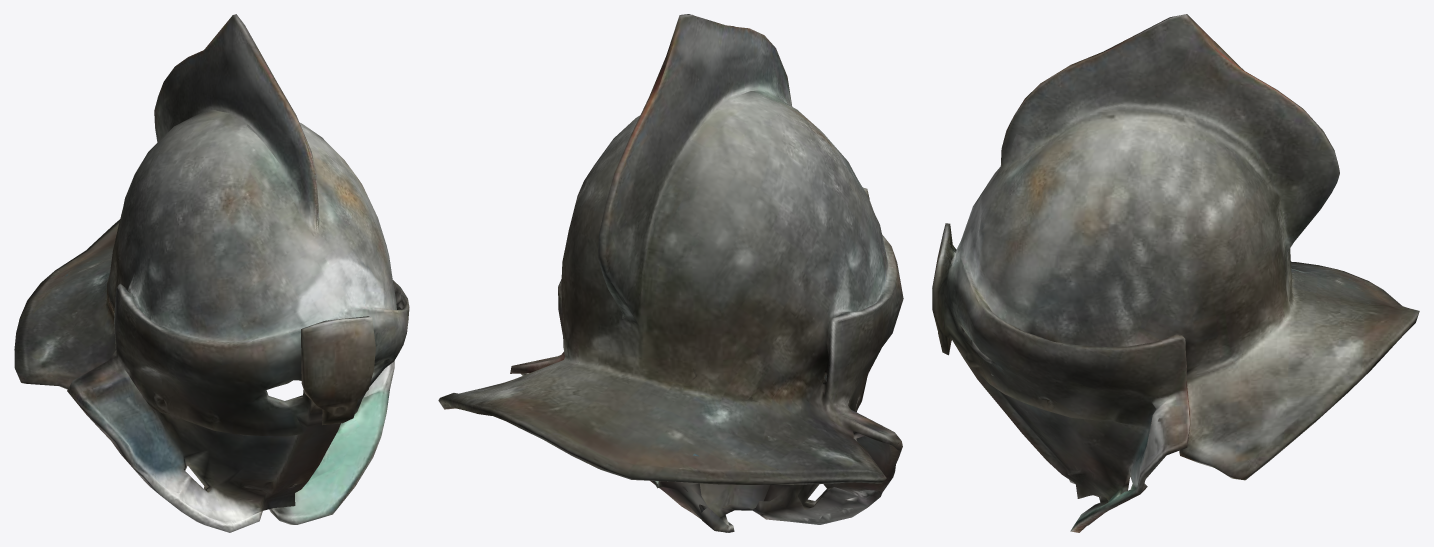
File: gladiator.glb
3 views of the same model, side by side, from view 1: azimuth 30°, elevation 25°; view 2: azimuth 150°, elevation 25°; view 3: azimuth 270°, elevation 25° (orthographic). The views are drawn at different scales.
Parts seen in each view (by area): view 1: RETOPO; view 2: RETOPO; view 3: RETOPO.
Part boxes in pixels (left/top/right/bottom): RETOPO: left=14, top=14, right=409, bottom=532; RETOPO: left=438, top=14, right=903, bottom=532; RETOPO: left=932, top=14, right=1419, bottom=532.
Bounding box in the file's own units: 0.7426 × 0.9117 × 0.8013.
Materials: 1 (1 with a texture image).
